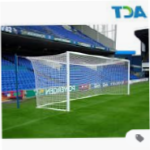goals: (33, 50, 132, 116)
